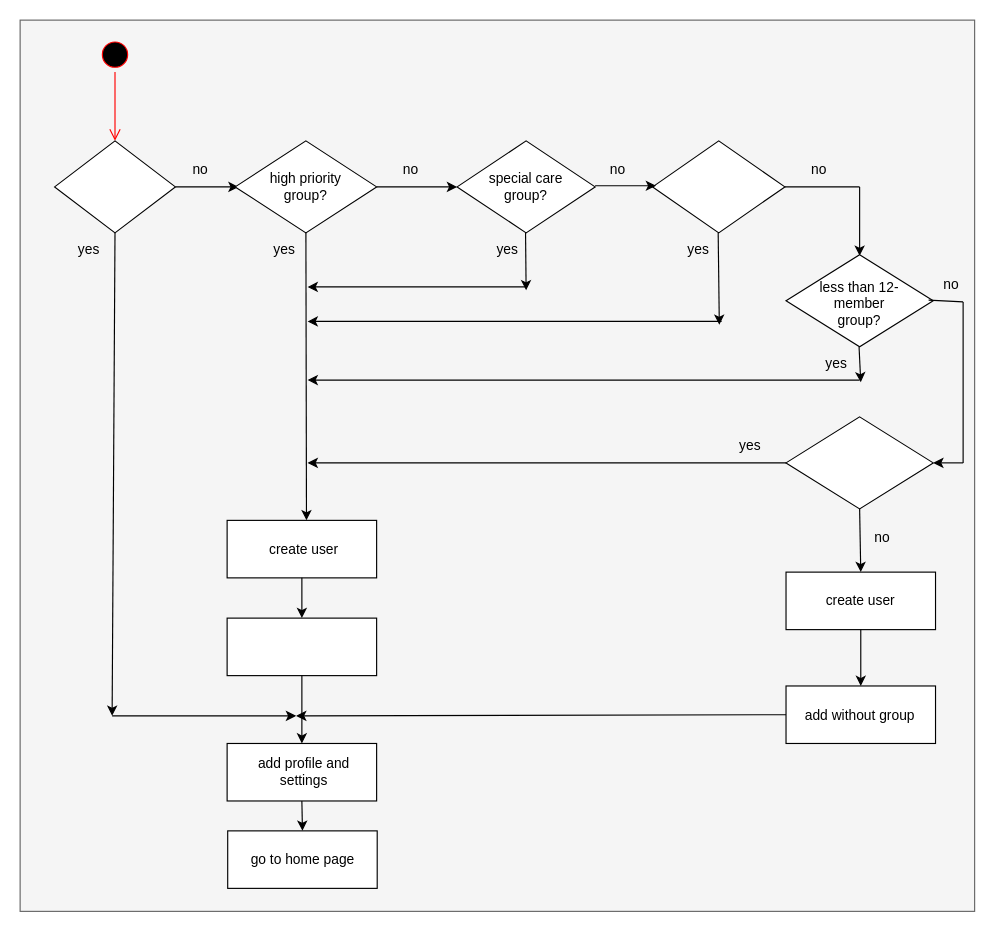
Some shapes in this 1006 by 932 pixel diagram are drawn without their labels. The shapes that lost their labels are listed below. From the top down, each one's box as (x1, y1, x2, y2) in pixels, then its label:
(53, 140, 175, 233): Registered
(651, 140, 785, 233): new group?
(785, 416, 933, 509): more than 12-member group?
(226, 617, 377, 676): add to group
